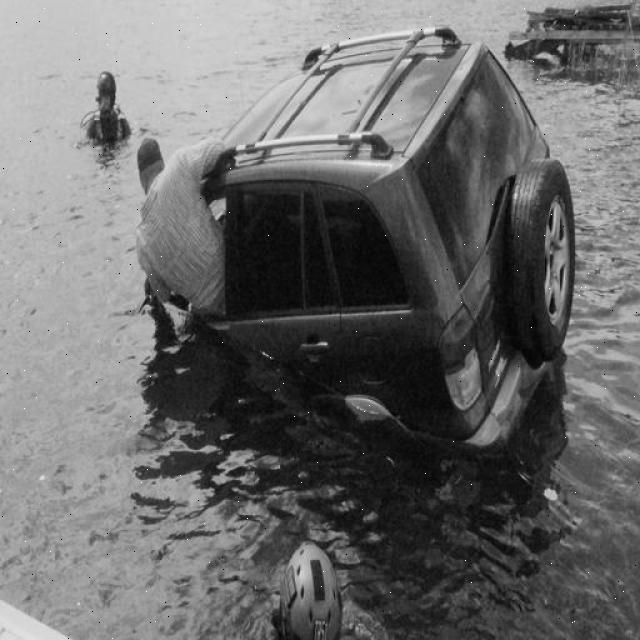rescuer: (256, 524, 370, 640), (75, 64, 147, 162)
